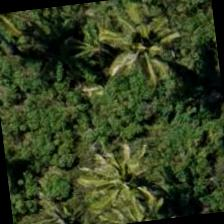Kelapa_Sawit: (96, 0, 197, 95), (77, 133, 178, 223)
